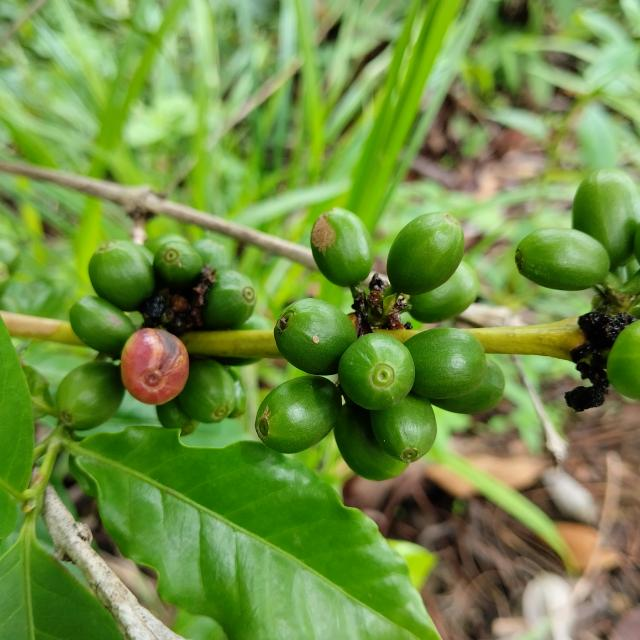green: (255, 375, 342, 454), (574, 168, 640, 269), (387, 212, 465, 295), (274, 298, 357, 376), (334, 400, 409, 481), (338, 333, 415, 411), (516, 228, 611, 291), (404, 328, 488, 399), (311, 207, 373, 287), (55, 361, 124, 431), (371, 392, 438, 463), (88, 240, 154, 311), (410, 261, 480, 323), (430, 360, 505, 414), (69, 296, 135, 355), (179, 359, 235, 424), (201, 270, 256, 329), (608, 320, 640, 401), (152, 241, 203, 289)
red: (120, 328, 189, 405)
